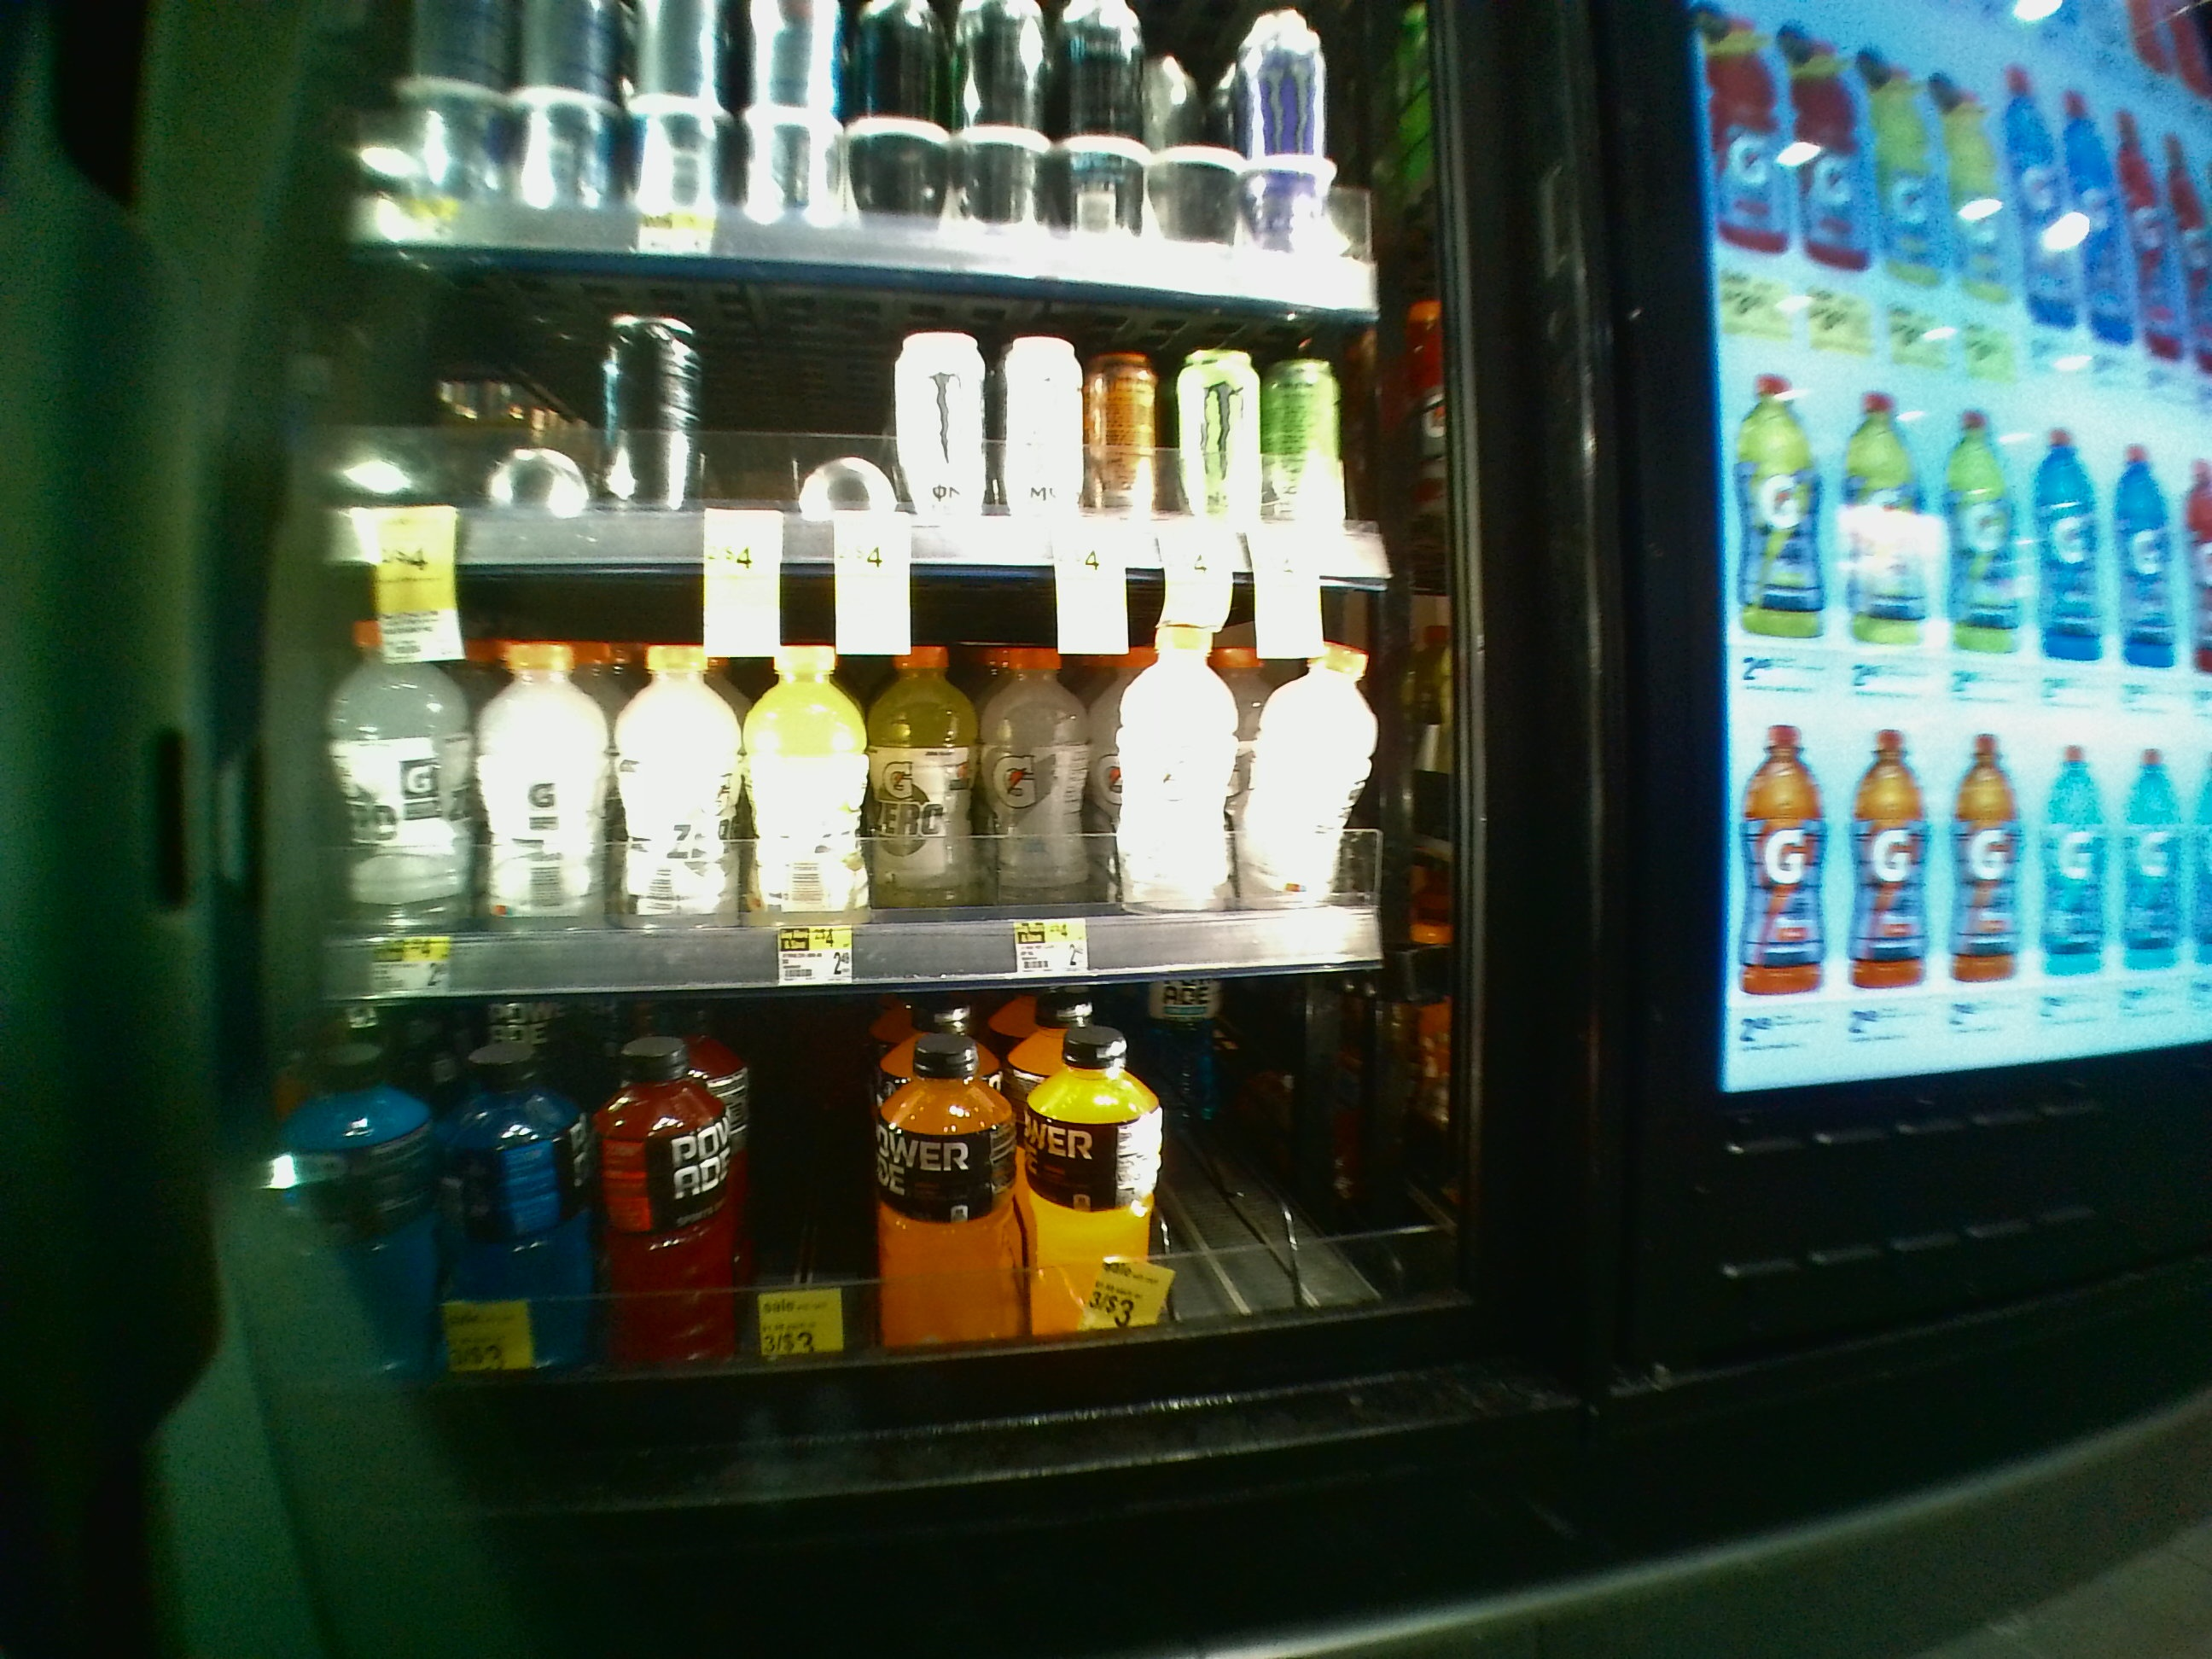shelf: (280, 568, 1477, 983)
